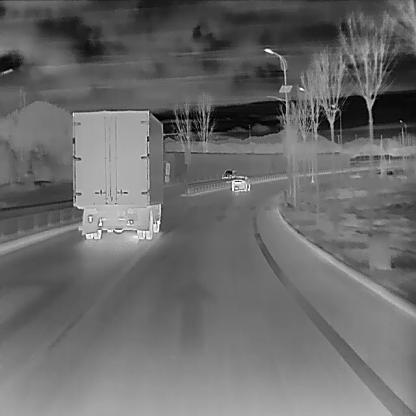car: (70, 107, 171, 242), (230, 175, 251, 192), (221, 168, 237, 180)
